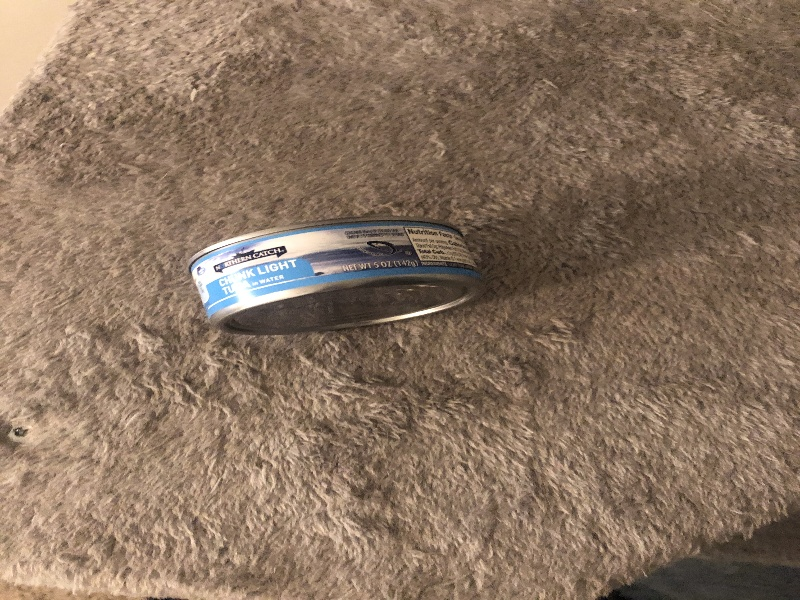metal: (184, 213, 486, 339)
